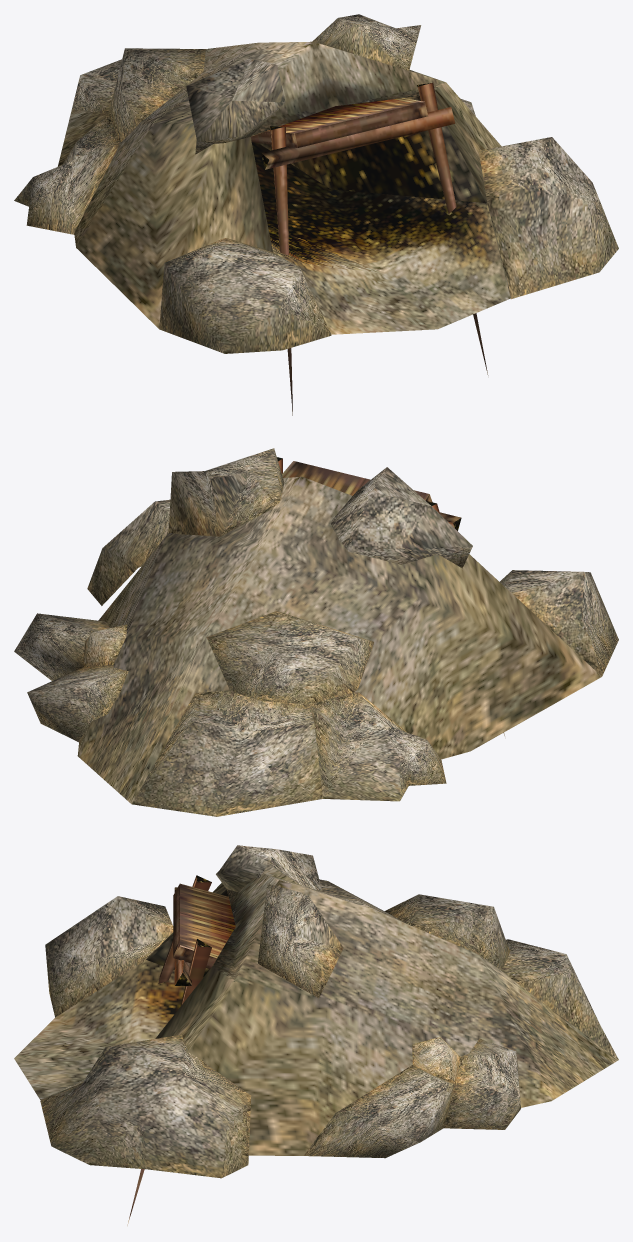
File: mine_base.glb
3 views of the same model, one above another, from view 1: azimuth 30°, elevation 25°; view 2: azimuth 150°, elevation 25°; view 3: azimuth 270°, elevation 25° (orthographic). The views are drawn at different scales.
Parts seen in each view (by area): view 1: MeshRoot; view 2: MeshRoot; view 3: MeshRoot.
Part boxes in pixels (x1,y1,x2,y2): MeshRoot: [14, 14, 618, 415]; MeshRoot: [14, 448, 618, 816]; MeshRoot: [14, 845, 618, 1225].
Size of the model in its own units: 8.05 by 5.37 by 9.38.
1 material, 1 textured.
